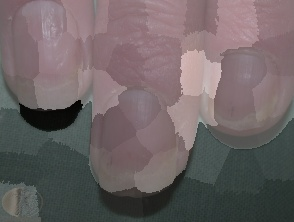Nail_psoriasis: (90, 129, 186, 206), (11, 53, 93, 105), (230, 90, 294, 142)
